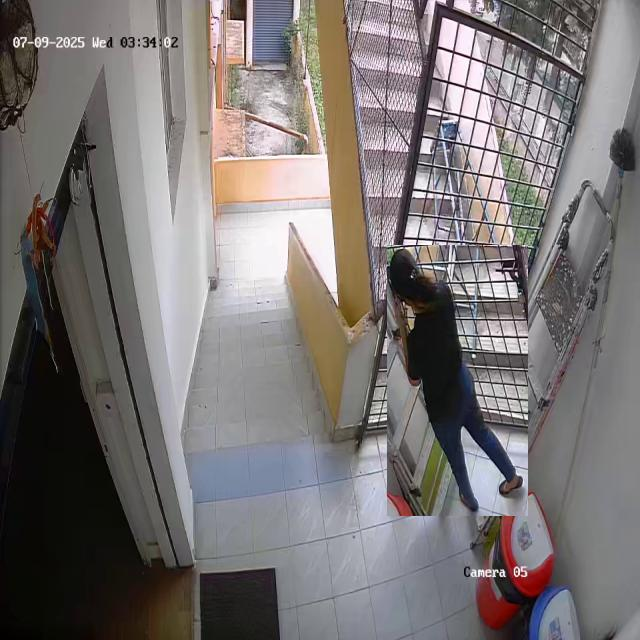person: (387, 245, 528, 516)
